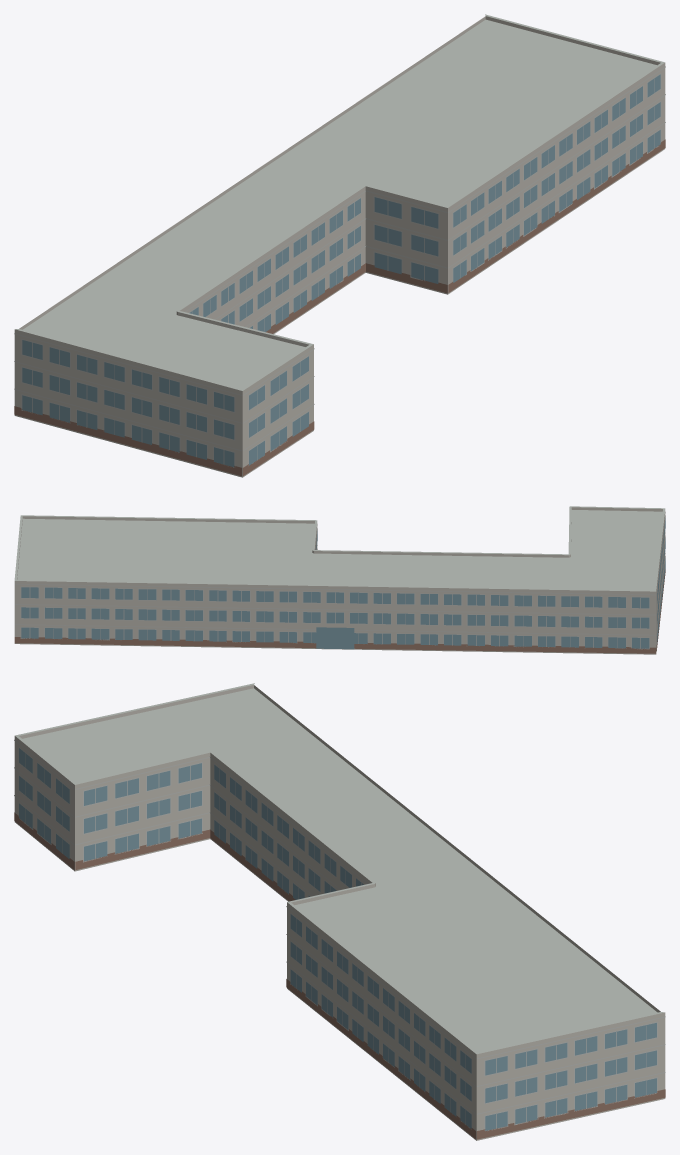
File: public-0e2f11aa-b036-46ae-bd60-0782bfc8a9a1.glb
The picture shows the model from 3 angles, top to bottom: view 1: azimuth 30°, elevation 25°; view 2: azimuth 150°, elevation 25°; view 3: azimuth 270°, elevation 25°; orthographic projection. The views are drawn at different scales.
Parts seen in each view (by area): view 1: public-0e2f11aa-b036-46ae-bd60-0782bfc8a9a1; view 2: public-0e2f11aa-b036-46ae-bd60-0782bfc8a9a1; view 3: public-0e2f11aa-b036-46ae-bd60-0782bfc8a9a1.
Part boxes in pixels (bbox=[...]): public-0e2f11aa-b036-46ae-bd60-0782bfc8a9a1: bbox=[14, 14, 665, 477]; public-0e2f11aa-b036-46ae-bd60-0782bfc8a9a1: bbox=[14, 506, 665, 654]; public-0e2f11aa-b036-46ae-bd60-0782bfc8a9a1: bbox=[14, 683, 665, 1140].
Size of the model in its own units: 84.32 by 9.15 by 62.47.
